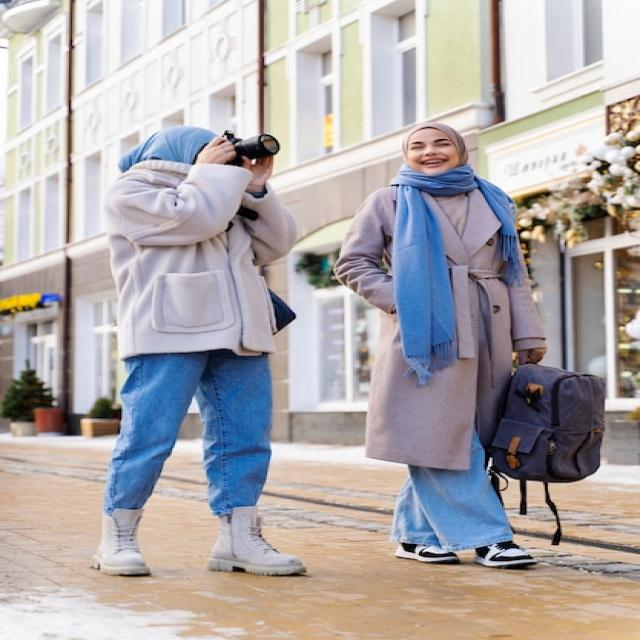Person: (334, 120, 606, 570), (92, 124, 301, 578)
